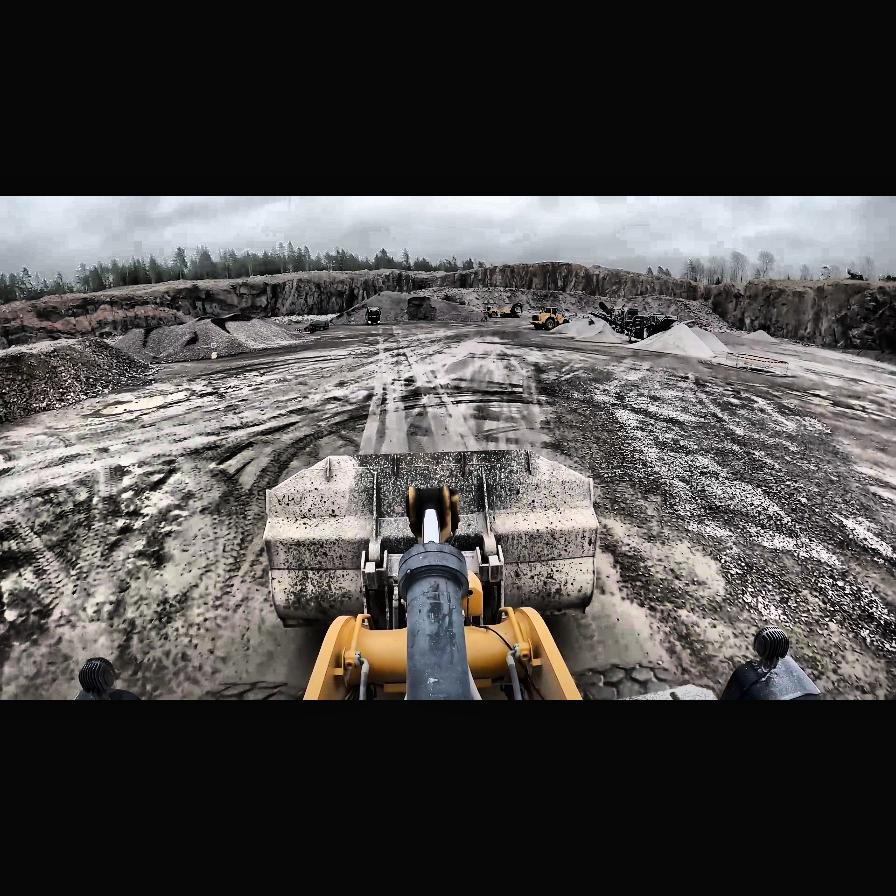anchor: (406, 484, 456, 542)
pile of gravel: (1, 337, 157, 429), (113, 314, 304, 362), (443, 284, 591, 322), (339, 290, 477, 324), (626, 322, 716, 358), (676, 297, 744, 335), (570, 317, 632, 341), (738, 330, 783, 344)
